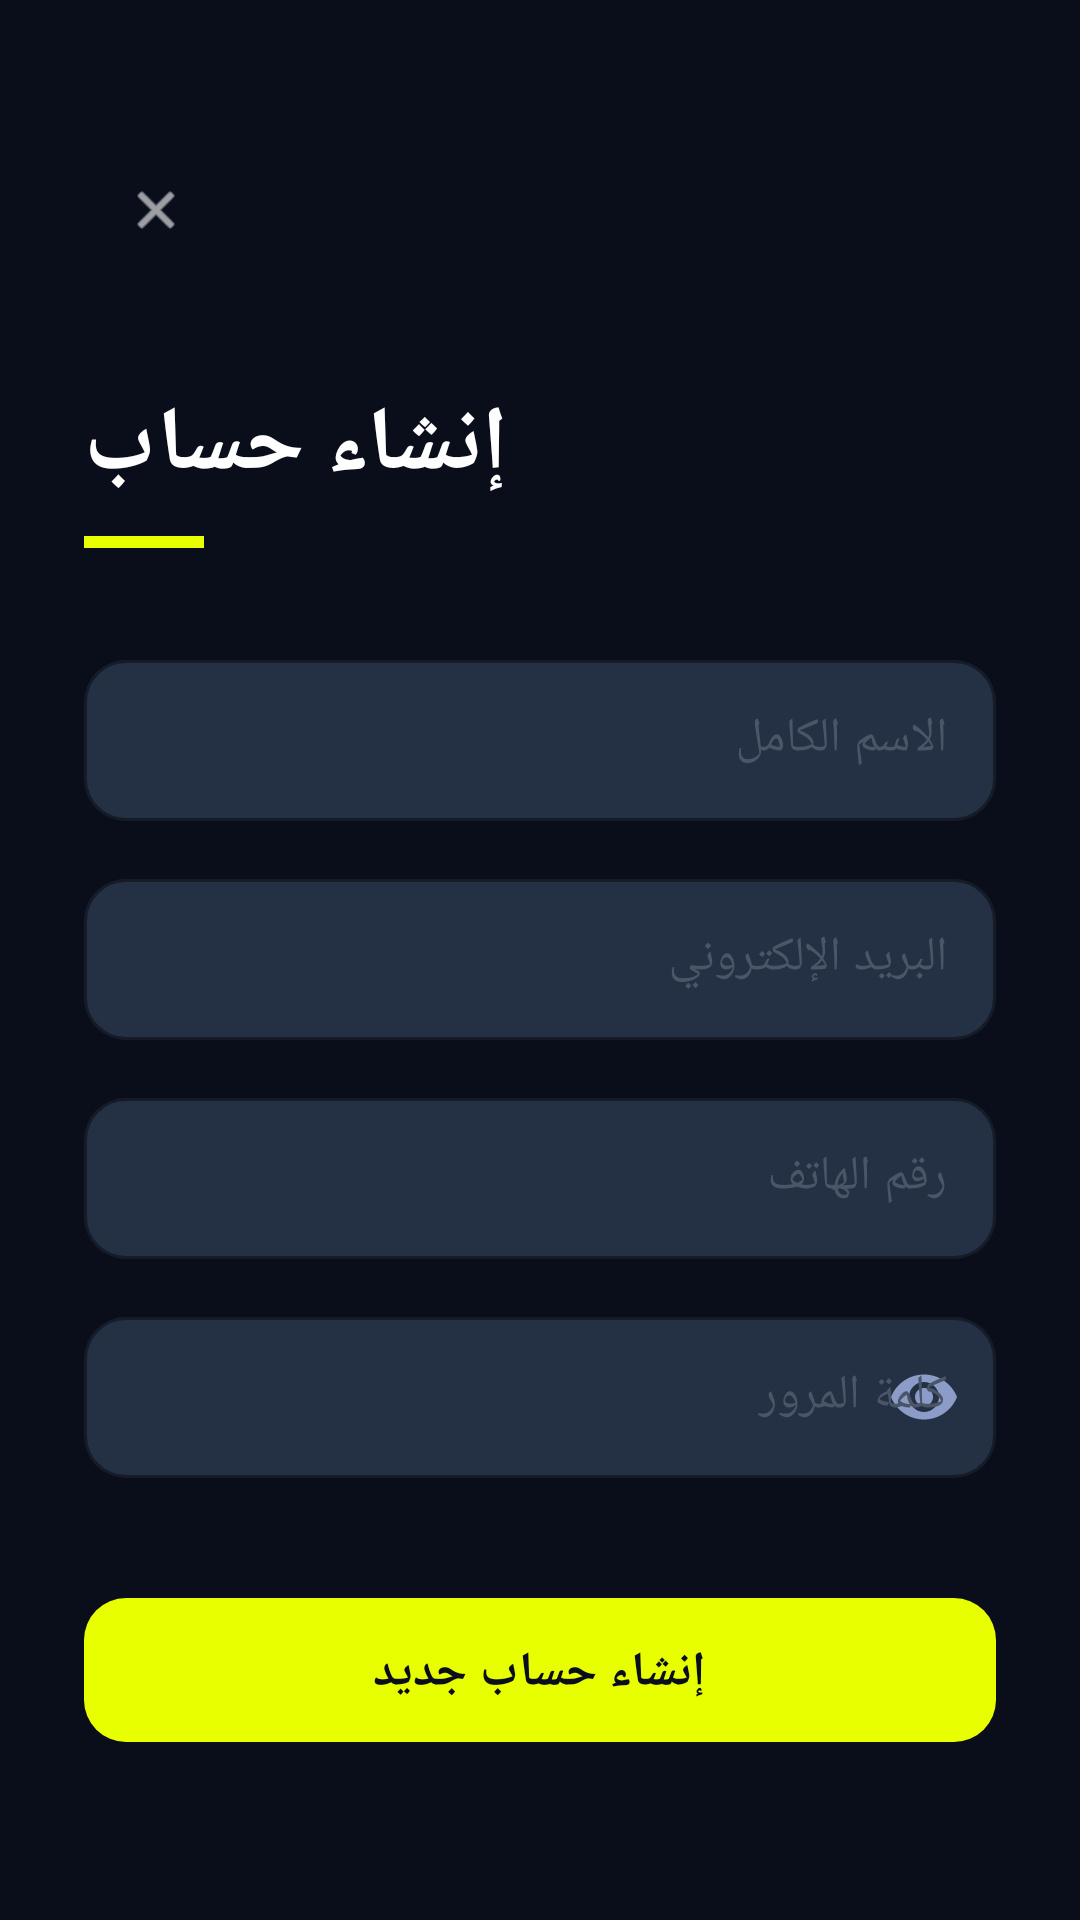

Icon click points for this 1080x1920 phone screenshot, format (x,y):
close clear cancel: (156,210)
